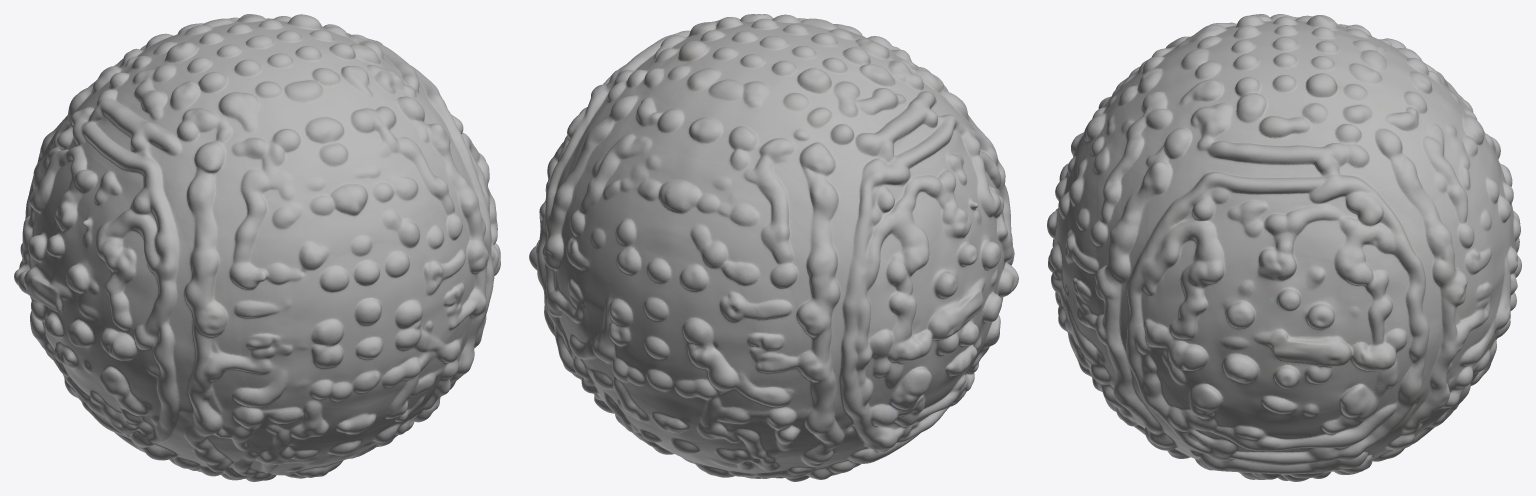
File: detailed_realistic_model_solid_04.glb
3 views of the same model, side by side, from view 1: azimuth 30°, elevation 25°; view 2: azimuth 150°, elevation 25°; view 3: azimuth 270°, elevation 25° (orthographic).
Visible parts, largest first — view 1: tripo_node_75b1678d-c8d5-413e-a41e-95f77e5ad7ff; view 2: tripo_node_75b1678d-c8d5-413e-a41e-95f77e5ad7ff; view 3: tripo_node_75b1678d-c8d5-413e-a41e-95f77e5ad7ff.
Part boxes in pixels (x1,y1,x2,y2): tripo_node_75b1678d-c8d5-413e-a41e-95f77e5ad7ff: [14, 14, 500, 481]; tripo_node_75b1678d-c8d5-413e-a41e-95f77e5ad7ff: [529, 14, 1018, 481]; tripo_node_75b1678d-c8d5-413e-a41e-95f77e5ad7ff: [1047, 14, 1521, 481].
Size of the model in its own units: 1 by 0.9574 by 0.989.
Materials: 1 (1 with a texture image).
